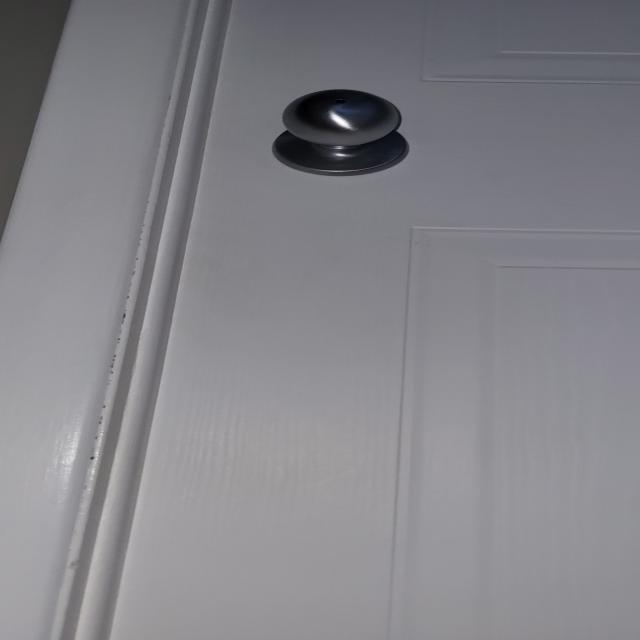door-knob: (273, 90, 409, 175)
